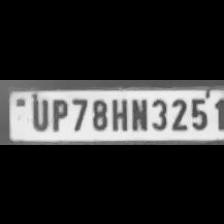1: (210, 94, 222, 130)
2: (169, 95, 187, 131)
3: (148, 94, 168, 130)
5: (188, 94, 208, 130)
7: (67, 94, 87, 132)
8: (88, 95, 108, 131)
H: (109, 95, 129, 131)
N: (128, 95, 148, 131)
P: (49, 96, 69, 130)
U: (28, 96, 50, 130)
